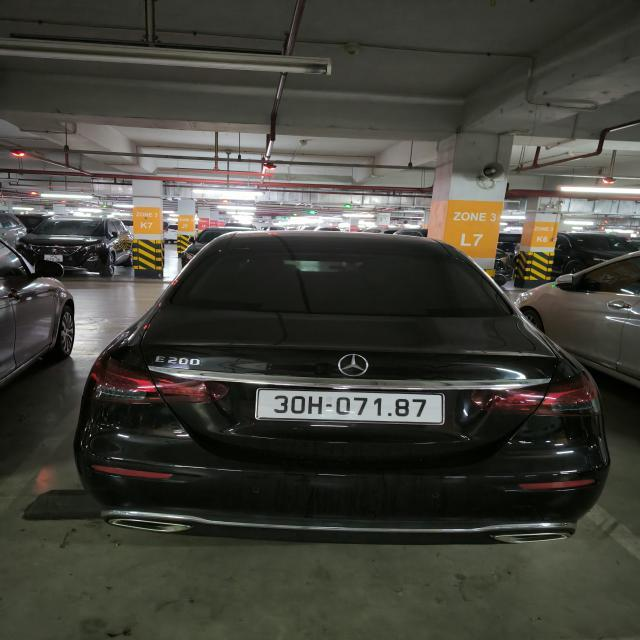license: (253, 387, 445, 425)
